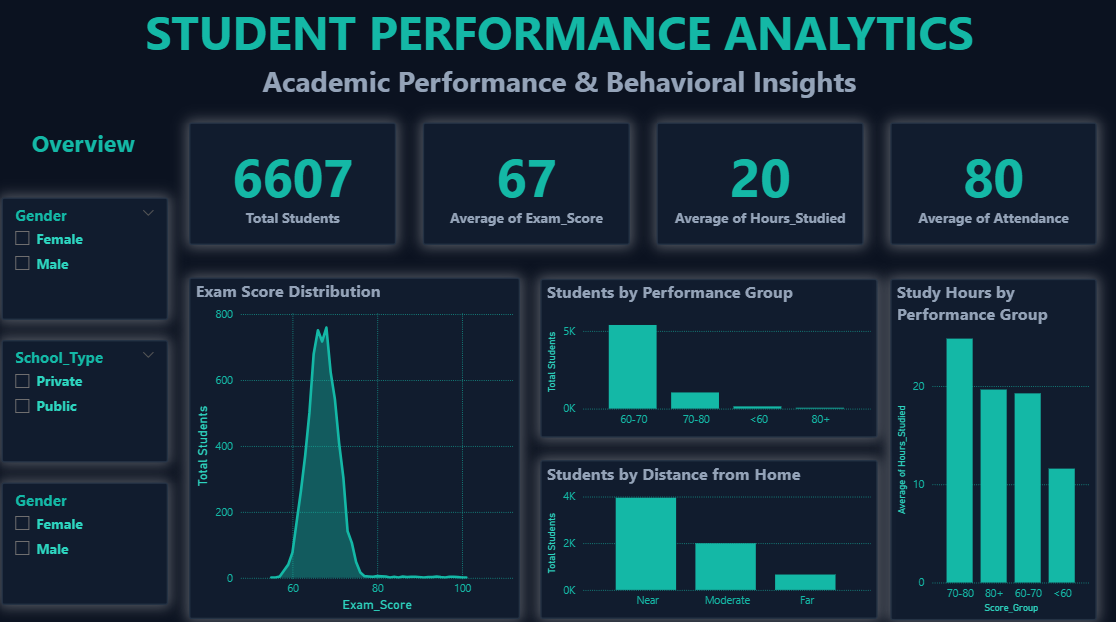

The page's visual inventory and layout, read from the dashboard file:
{"tool":"powerbi","page":{"name":"Overview","canvas":[1280,720],"ordinal":0},"visuals":[{"type":"textbox","box":[156.7,0,966.7,128.3],"z":0},{"type":"card","fields":{"Values":["Avg(clean_data.Attendance)"]},"box":[1018,145.5,236,140],"z":1000},{"type":"card","fields":{"Values":["Avg(clean_data.Hours_Studied)"]},"box":[751,145.5,237.1,140],"z":2000},{"type":"card","fields":{"Values":["Avg(clean_data.Exam_Score)"]},"box":[484.1,145.5,237.1,140],"z":3000},{"type":"stackedAreaChart","title":"Exam Score Distribution","fields":{"Category":["clean_data.Exam_Score"],"Y":["clean_data.Total Students"]},"box":[217.1,322.9,378.6,390],"z":4000},{"type":"clusteredColumnChart","title":"Students by Performance Group","fields":{"Category":["clean_data.Score_Group"],"Y":["clean_data.Total Students"]},"box":[618.6,324.3,385.7,181.4],"z":5000},{"type":"clusteredColumnChart","title":"Study Hours by Performance Group","fields":{"Y":["Avg(clean_data.Hours_Studied)"],"Category":["clean_data.Score_Group"]},"box":[1018.6,324.3,235.7,390],"z":7000},{"type":"slicer","fields":{"Values":["clean_data.Gender"]},"box":[2.3,231.4,190,140],"z":8000},{"type":"slicer","fields":{"Values":["clean_data.School_Type"]},"box":[2.3,394.3,190,140],"z":9000},{"type":"slicer","fields":{"Values":["clean_data.Gender"]},"box":[2.3,557.1,190,140],"z":10000},{"type":"card","fields":{"Values":["clean_data.Total Students"]},"box":[217.1,145.7,237.1,140],"z":11000},{"type":"textbox","box":[0,145.7,192.9,70],"z":12000},{"type":"clusteredColumnChart","title":"Students by Distance from Home","fields":{"Category":["clean_data.Distance_from_Home"],"Y":["clean_data.Total Students"]},"box":[618.6,531.4,385.7,181.4],"z":12001}]}

Visuals, with their boxes in screenshot pixels (x1, y1, x2, y2), scaled from the page's 1280x720 canvas onto the 1116x622 screenshot:
textbox: region(137, 0, 979, 111)
card - Avg(clean_data.Attendance): region(888, 126, 1093, 247)
card - Avg(clean_data.Hours_Studied): region(655, 126, 861, 247)
card - Avg(clean_data.Exam_Score): region(422, 126, 629, 247)
"Exam Score Distribution" stackedAreaChart: region(189, 279, 519, 616)
"Students by Performance Group" clusteredColumnChart: region(539, 280, 876, 437)
"Study Hours by Performance Group" clusteredColumnChart: region(888, 280, 1094, 617)
slicer - clean_data.Gender: region(2, 200, 168, 321)
slicer - clean_data.School_Type: region(2, 341, 168, 462)
slicer - clean_data.Gender: region(2, 481, 168, 602)
card - clean_data.Total Students: region(189, 126, 396, 247)
textbox: region(0, 126, 168, 186)
"Students by Distance from Home" clusteredColumnChart: region(539, 459, 876, 616)
